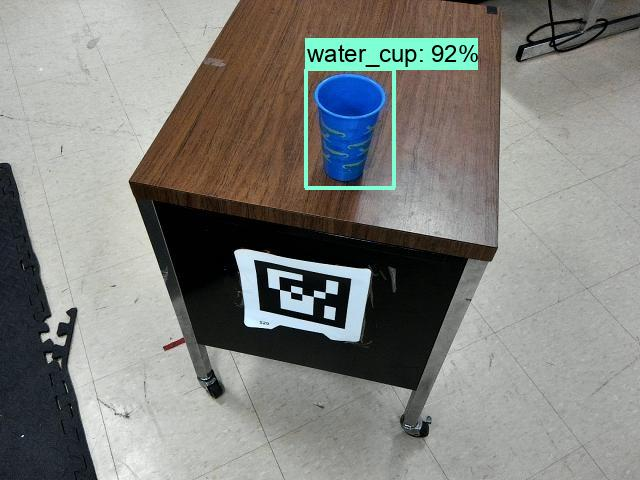water_cup: (308, 72, 392, 185)
